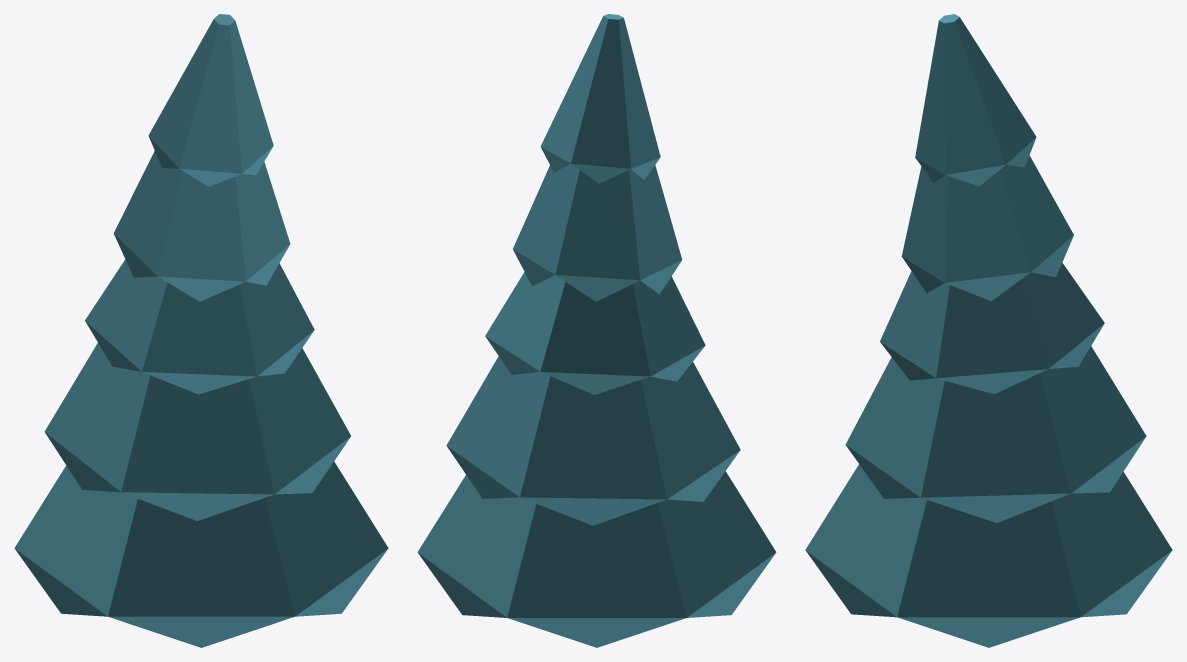
File: tree_pineSmall_round4.obj
3 renders of one model, left to right at view 1: azimuth 30°, elevation 25°; view 2: azimuth 150°, elevation 25°; view 3: azimuth 270°, elevation 25°, orthographic. The views are drawn at different scales.
Visible parts, largest first — view 1: tree_pineSmall_round4; view 2: tree_pineSmall_round4; view 3: tree_pineSmall_round4.
Boxes of the visible parts, <box> form: tree_pineSmall_round4: <box>14,14,388,647</box>; tree_pineSmall_round4: <box>417,14,776,647</box>; tree_pineSmall_round4: <box>805,14,1172,647</box>.
Bounding box in the file's own units: 4.8 × 9.42 × 5.55.
